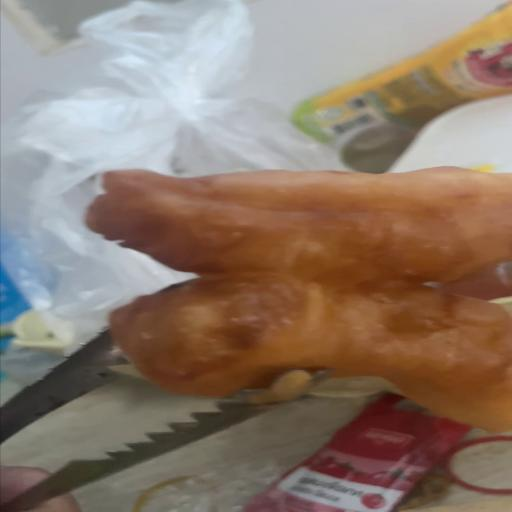street_burnt_good: (85, 168, 512, 432)
